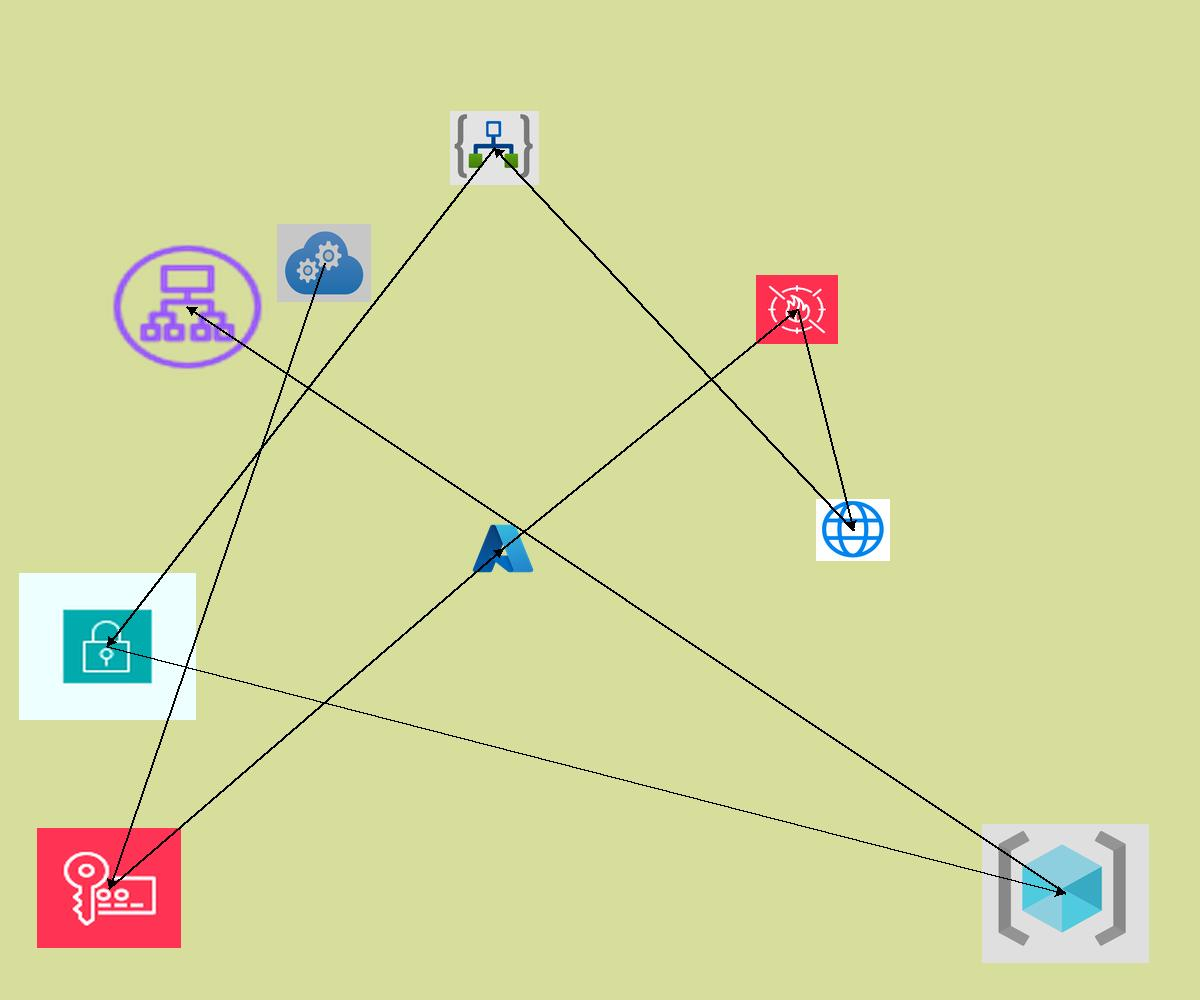AWS-Key-Management-Service: (37, 828, 181, 948)
AWS-Private-subnet: (19, 573, 196, 720)
AWS-Res_Elastic-Load-Balancing_Application-Load-Balancer: (107, 240, 268, 374)
AWS-WAF: (756, 275, 838, 344)
Azure_cloud_services: (277, 224, 371, 302)
Azure_http: (816, 499, 890, 561)
Azure_integration-204-Logic-Apps: (450, 111, 539, 185)
Azure_resource_group: (982, 824, 1149, 963)
Azure_services: (470, 521, 536, 576)
